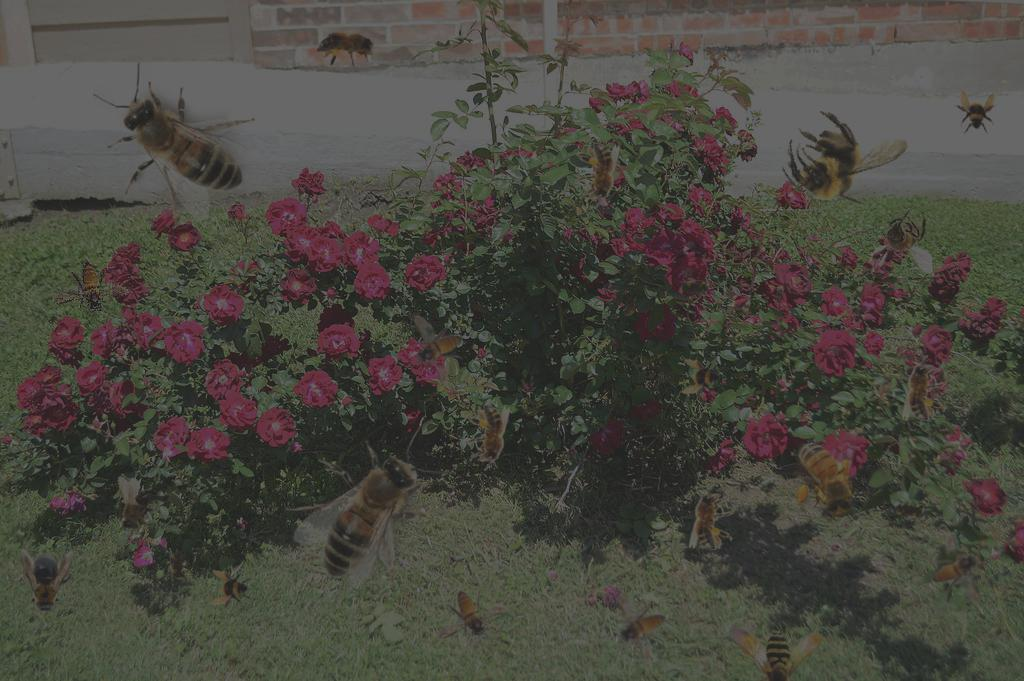Bee: (93, 62, 255, 229), (285, 427, 452, 589), (767, 79, 924, 236), (711, 587, 831, 681), (793, 430, 861, 523), (51, 254, 135, 323), (102, 472, 179, 544), (872, 204, 933, 274), (413, 315, 463, 386), (437, 590, 508, 640), (616, 594, 666, 665), (931, 532, 981, 603), (21, 549, 73, 617), (465, 405, 510, 471), (902, 355, 947, 421), (689, 484, 734, 550), (575, 143, 620, 209), (317, 26, 383, 71), (953, 90, 997, 134), (681, 357, 725, 401), (209, 568, 253, 612), (887, 495, 931, 525), (675, 277, 715, 299), (167, 545, 189, 585)
